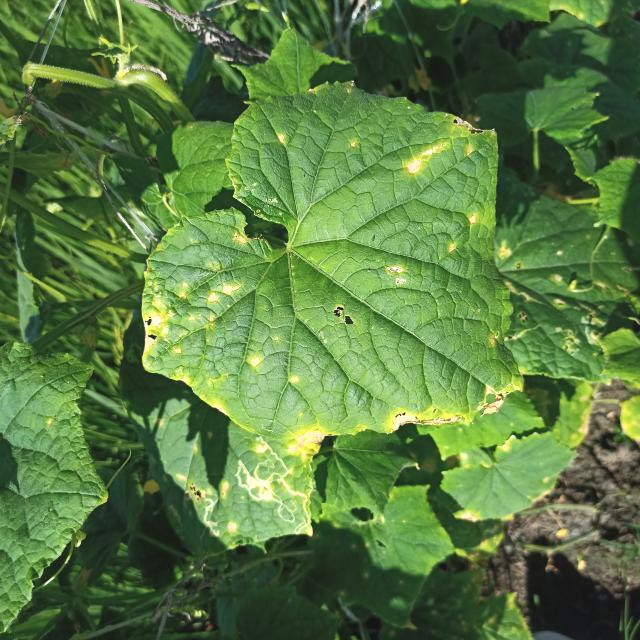disease_cucumber: (139, 274, 241, 354), (387, 402, 464, 437), (399, 140, 451, 182), (387, 264, 409, 288), (248, 354, 263, 369), (446, 242, 459, 257), (467, 215, 480, 227), (288, 374, 298, 388), (276, 132, 286, 146)
